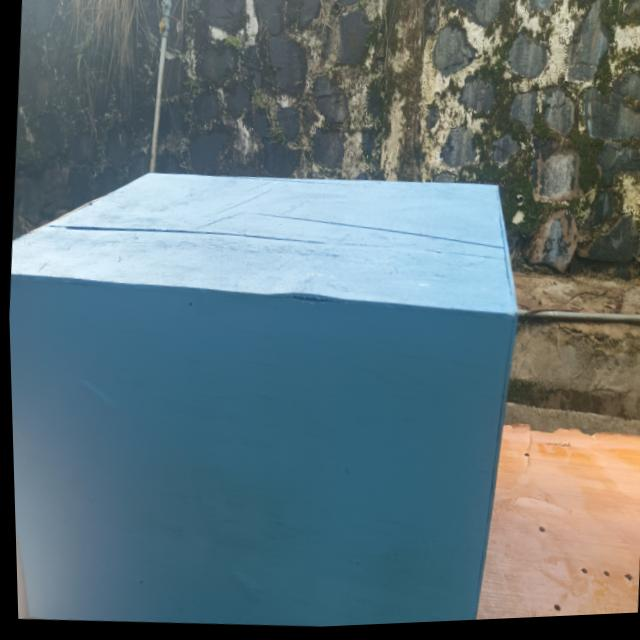blue_box: (3, 89, 574, 640)
